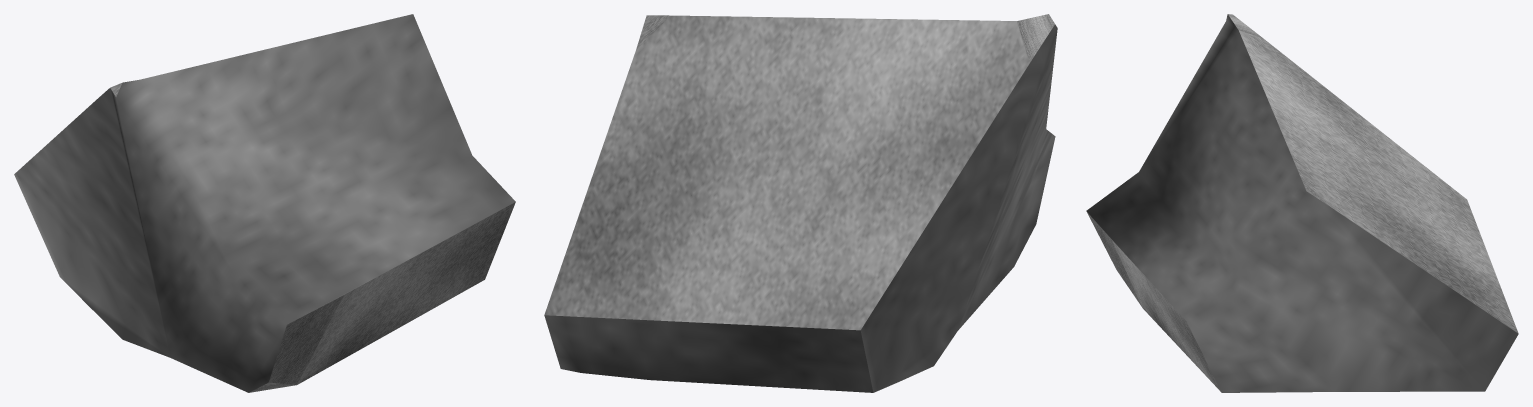
The model's file is leg_4_cell_012.fbx.
3 views of the same model, side by side, from view 1: azimuth 30°, elevation 25°; view 2: azimuth 150°, elevation 25°; view 3: azimuth 270°, elevation 25° (orthographic). The views are drawn at different scales.
Parts seen in each view (by area): view 1: leg_4_cell.012; view 2: leg_4_cell.012; view 3: leg_4_cell.012.
Part boxes in pixels (box(x1,y1,x2,y2)): leg_4_cell.012: box(14, 14, 515, 392); leg_4_cell.012: box(544, 14, 1057, 392); leg_4_cell.012: box(1086, 14, 1518, 392).
Size of the model in its own units: 22.94 by 18.05 by 27.46.
